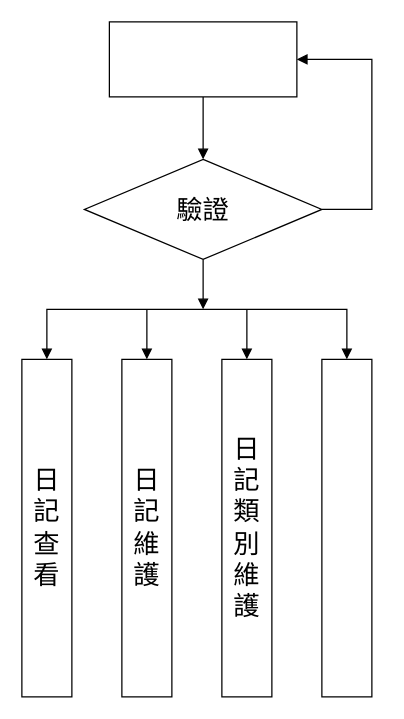
This 404x719 diagram has some shape labels left out. The shapes that lost their labels are listed below. From the top down, each one's centre as x and y in pixels, then its label:
At pixel 202 59: "用戶登錄".
At pixel 346 527: "個人信息維護".
